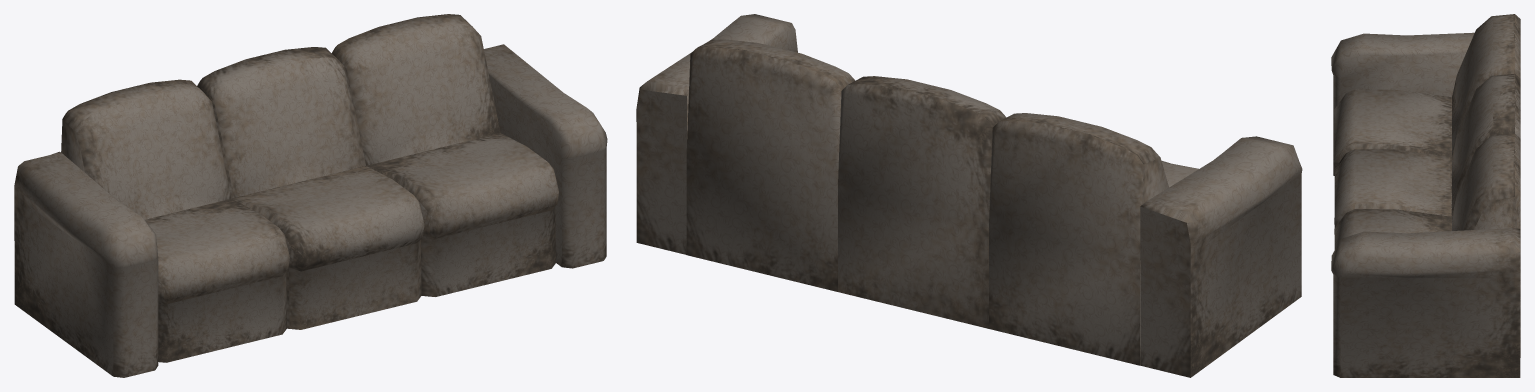
The model's file is BigSofa.FBX.
3 renders of one model, left to right at view 1: azimuth 30°, elevation 25°; view 2: azimuth 150°, elevation 25°; view 3: azimuth 270°, elevation 25°, orthographic. The views are drawn at different scales.
Visible parts, largest first — view 1: BigSofa; view 2: BigSofa; view 3: BigSofa.
Boxes of the visible parts, x1,y1,x2,y2 form: BigSofa: (14, 14, 607, 377); BigSofa: (636, 14, 1302, 377); BigSofa: (1331, 14, 1520, 377).
Size of the model in its own units: 225 by 80.32 by 81.64.
